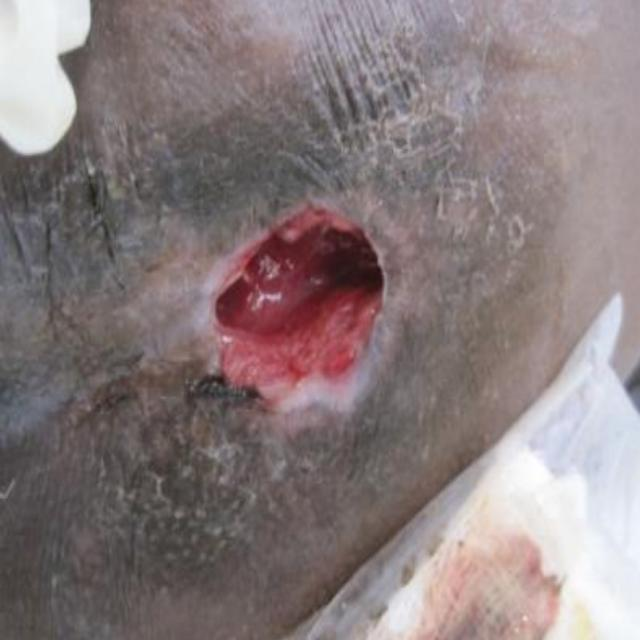stage-3: (215, 206, 384, 403)
